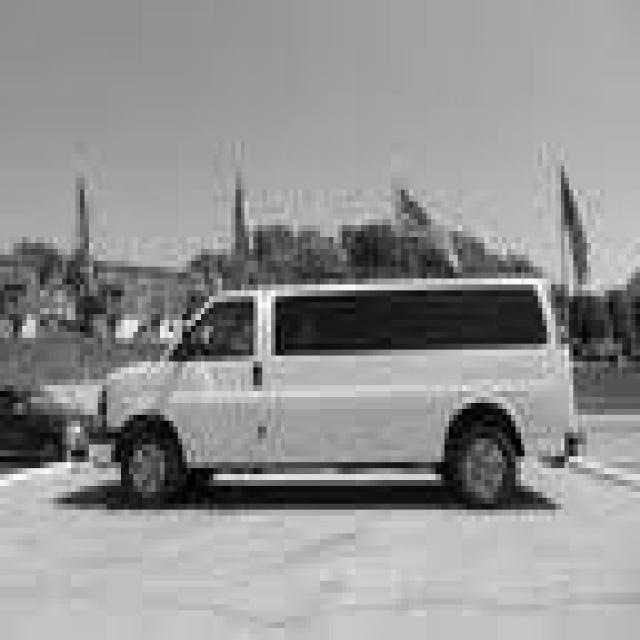car: (97, 280, 586, 510), (0, 379, 89, 462)
